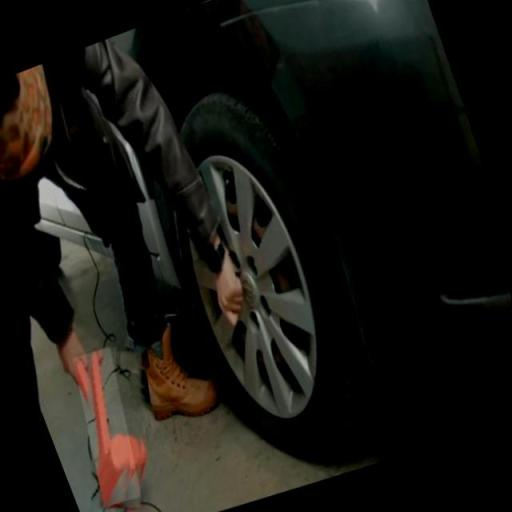mallet: (54, 350, 154, 507)
